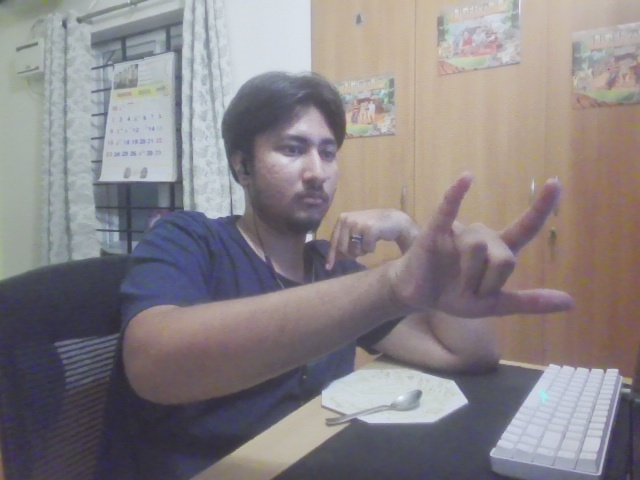iloveyou: (392, 168, 579, 324)
